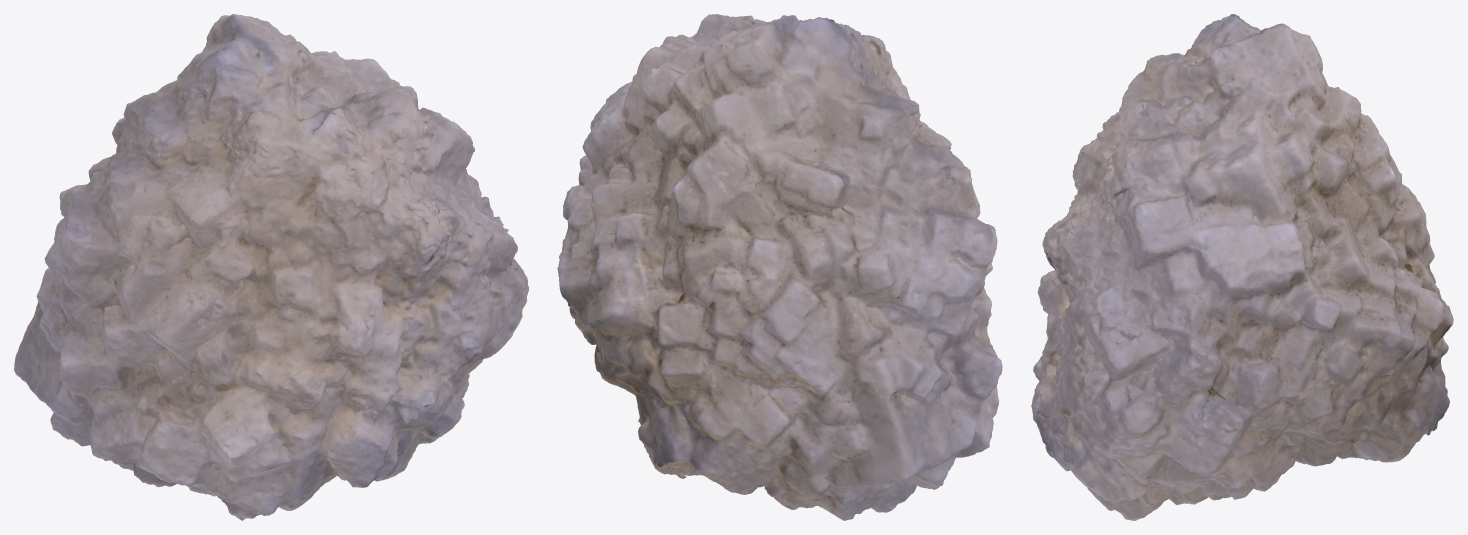
Rendered from halite3.glb.
3 views of the same model, side by side, from view 1: azimuth 30°, elevation 25°; view 2: azimuth 150°, elevation 25°; view 3: azimuth 270°, elevation 25° (orthographic). The views are drawn at different scales.
Parts seen in each view (by area): view 1: Object_2; view 2: Object_2; view 3: Object_2.
Boxes of the visible parts, left/top/right/bottom form: Object_2: left=14, top=14, right=528, bottom=520; Object_2: left=557, top=14, right=1002, bottom=520; Object_2: left=1031, top=14, right=1453, bottom=520.
Size of the model in its own units: 41.01 by 41.52 by 34.02.
Materials: 1 (1 with a texture image).
